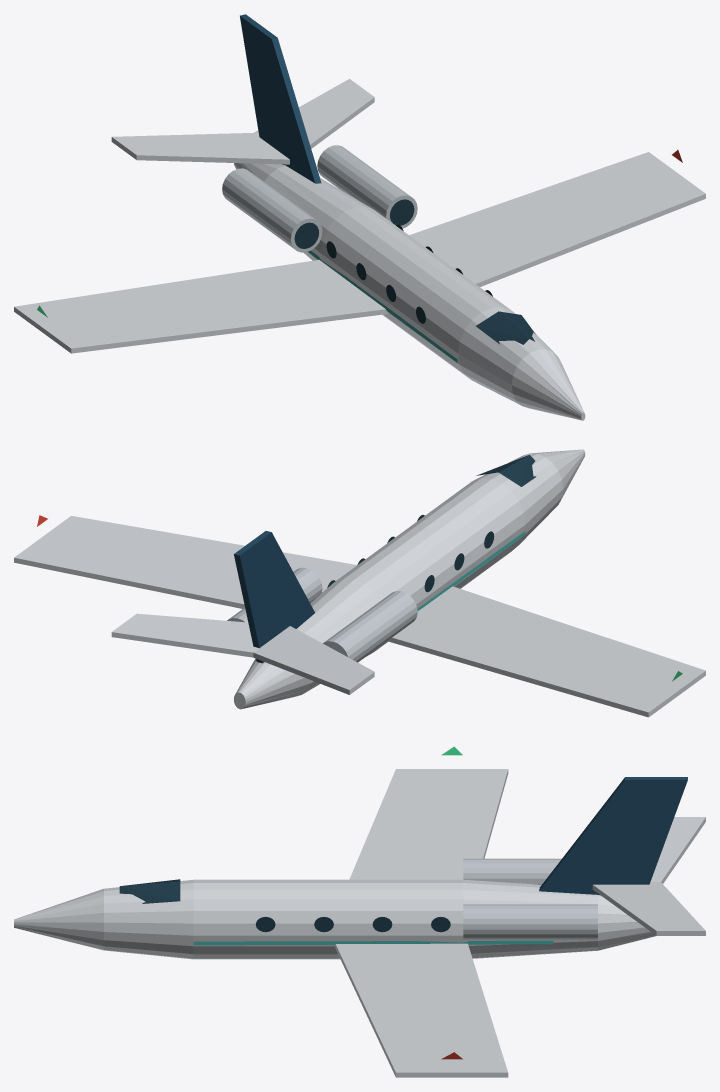
Rendered from business-jet.glb.
The picture shows the model from 3 angles, top to bottom: view 1: azimuth 30°, elevation 25°; view 2: azimuth 150°, elevation 25°; view 3: azimuth 270°, elevation 25°; orthographic projection.
Bounding box in the file's own units: 16.1 × 4.4 × 15.4.
